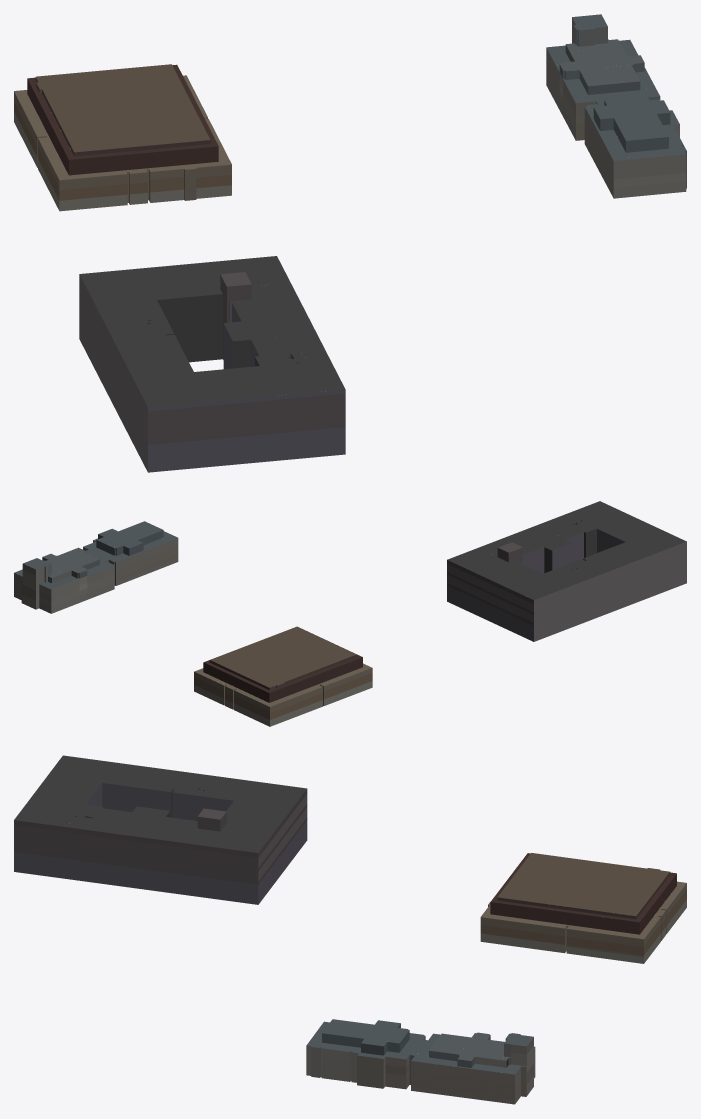
The model's file is t_2_3.far.glb.
3 renders of one model, top to bottom at view 1: azimuth 30°, elevation 25°; view 2: azimuth 150°, elevation 25°; view 3: azimuth 270°, elevation 25°, orthographic. The views are drawn at different scales.
Parts seen in each view (by area): view 1: opaque; view 2: opaque; view 3: opaque.
Boxes of the visible parts, bbox=[...] form: opaque: bbox=[14, 14, 686, 472]; opaque: bbox=[14, 501, 686, 726]; opaque: bbox=[14, 755, 686, 1104].
Bounding box in the file's own units: 191 × 19.05 × 182.
1 material, 1 textured.
